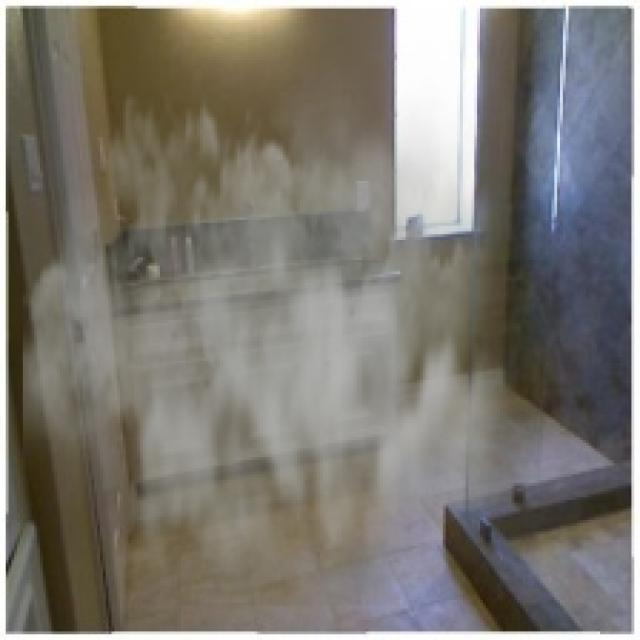Smoke: (23, 40, 540, 606)
